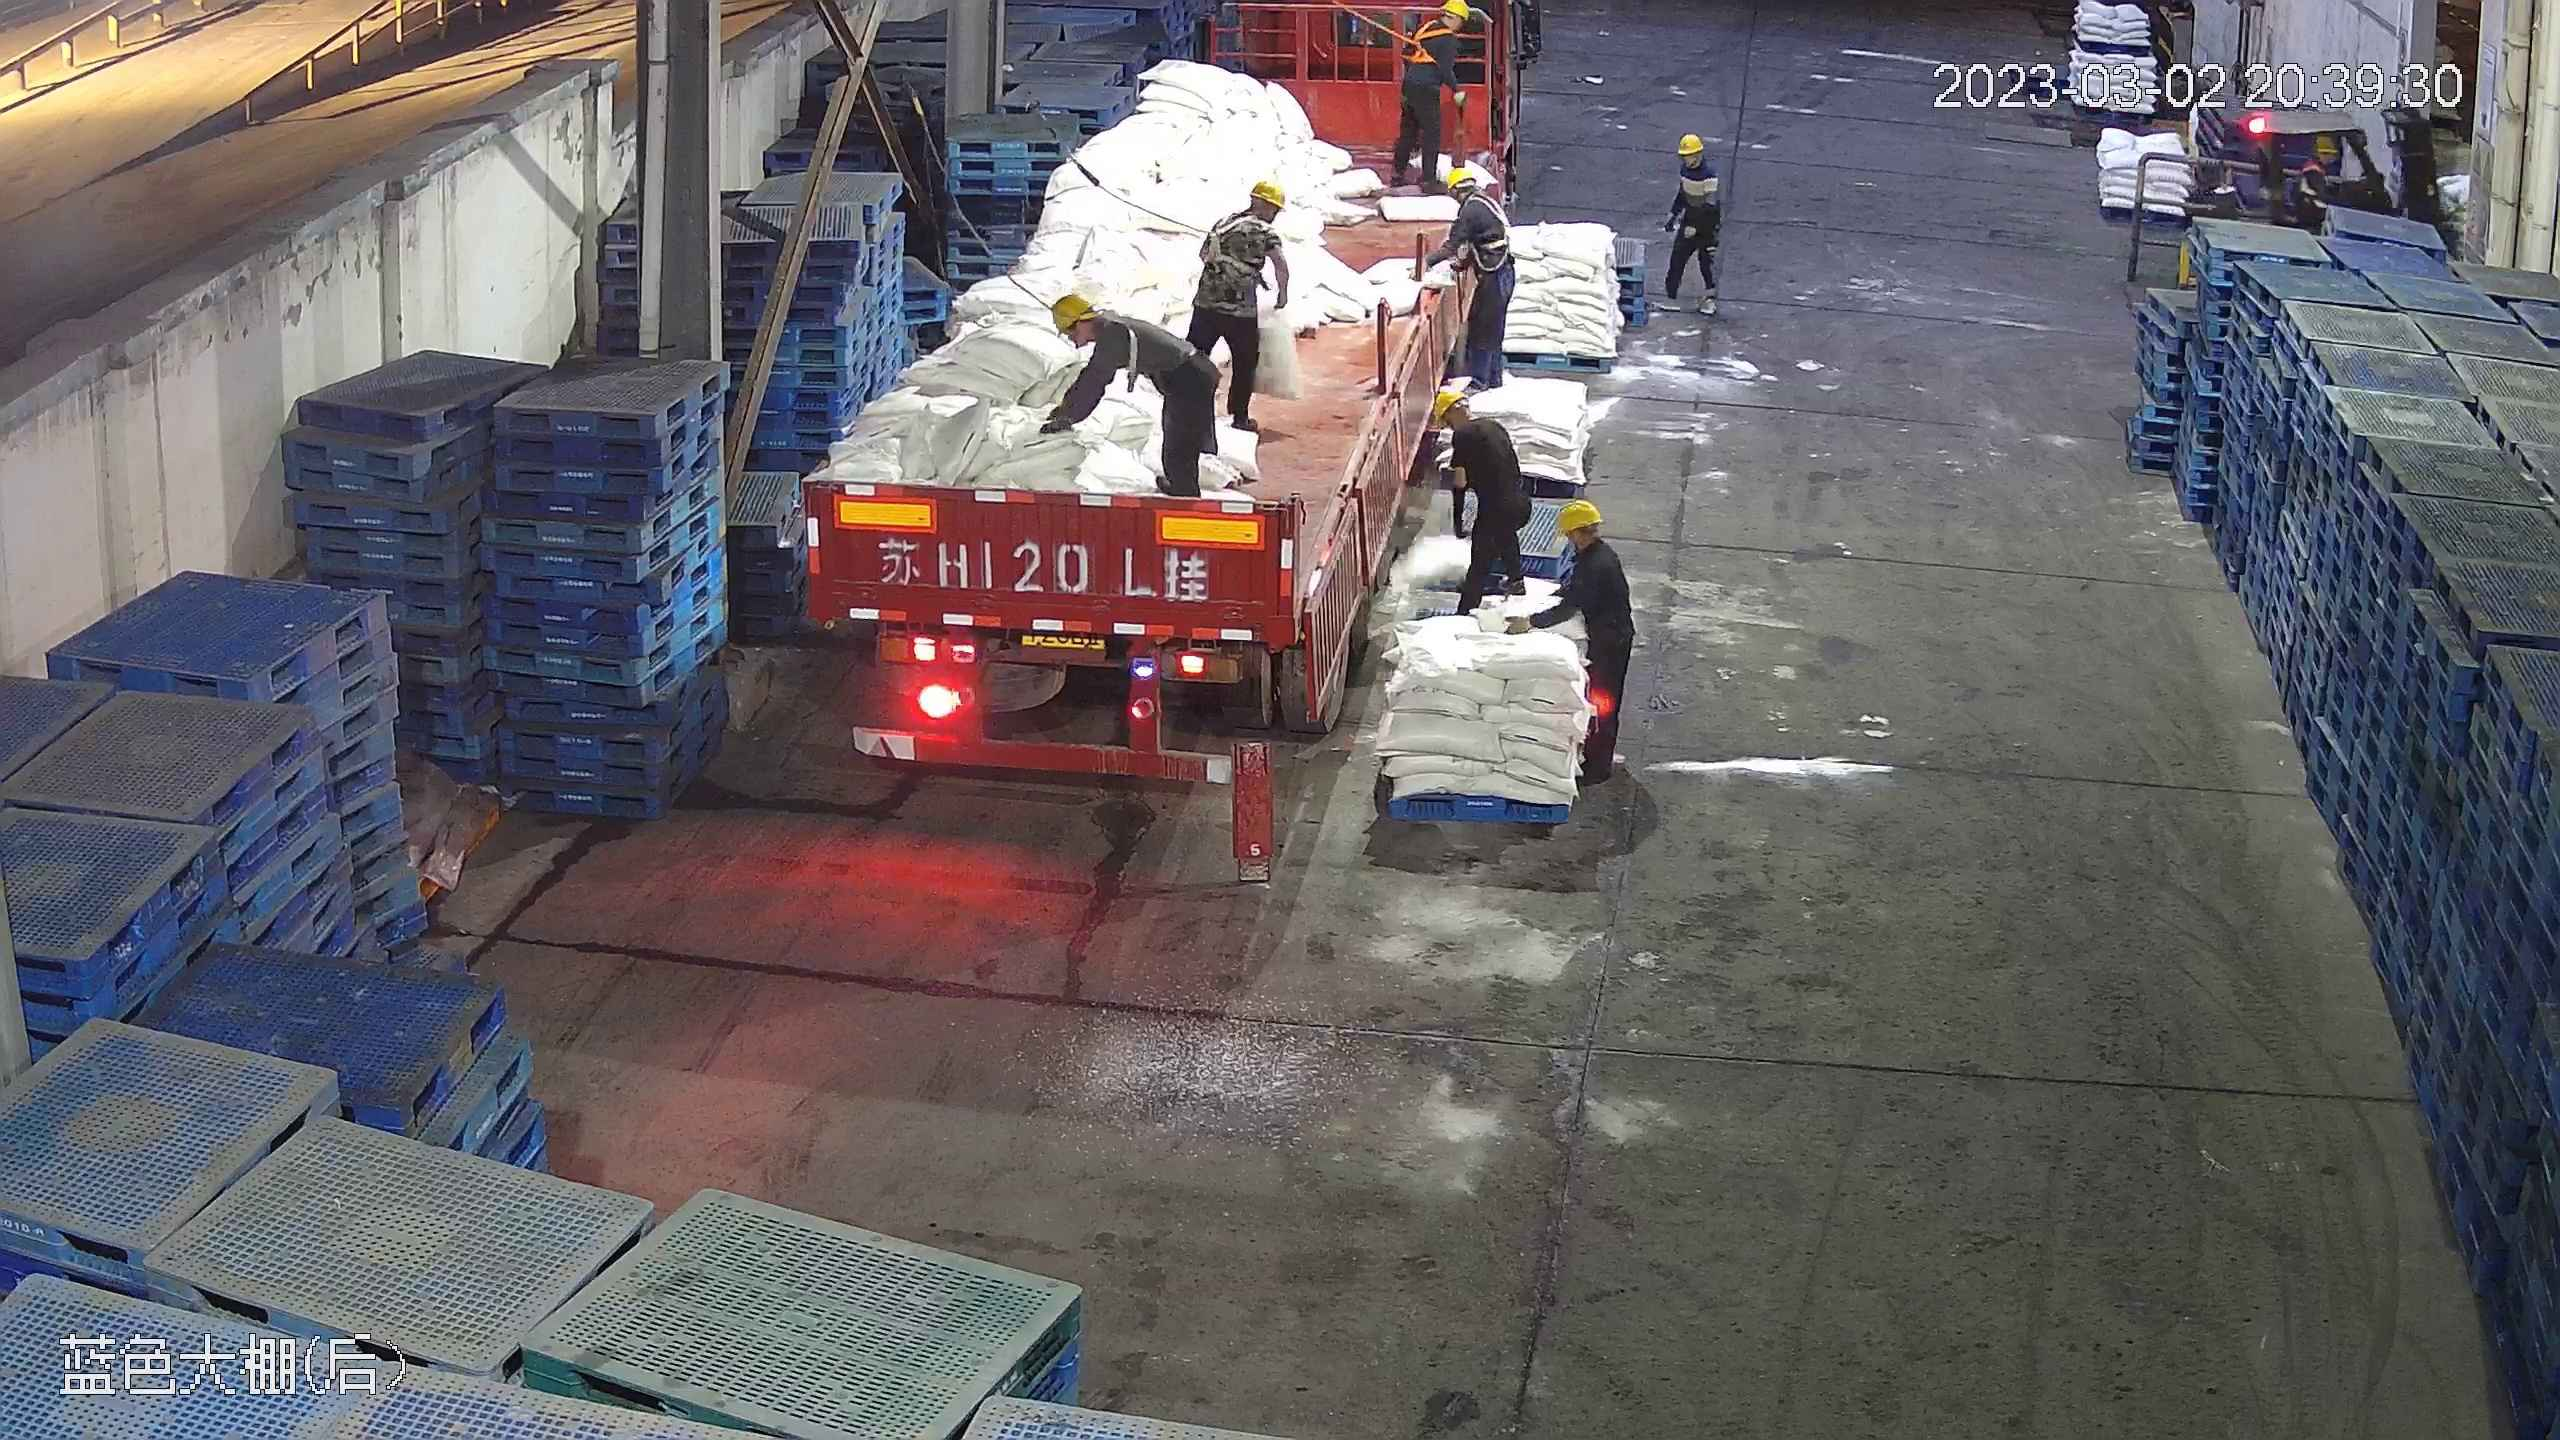belt: (1195, 211, 1266, 282), (1104, 310, 1170, 378), (1467, 197, 1519, 259), (1471, 193, 1516, 253), (1400, 18, 1450, 62)
head: (1052, 288, 1146, 367), (1549, 495, 1627, 581), (1207, 175, 1289, 251), (1432, 387, 1508, 457), (1441, 162, 1509, 231), (1414, 1, 1478, 51), (1669, 133, 1720, 187)
helmet: (1049, 289, 1095, 335), (1553, 497, 1605, 532), (1245, 176, 1288, 212), (1429, 386, 1469, 423), (1443, 161, 1480, 189), (1443, 1, 1475, 23), (1677, 133, 1704, 155)
people: (1030, 290, 1224, 497), (1501, 497, 1635, 784), (1188, 174, 1291, 435), (1427, 383, 1535, 615), (1430, 160, 1517, 403), (1391, 1, 1469, 201), (1652, 130, 1727, 313)
truck: (805, 13, 1476, 792)
